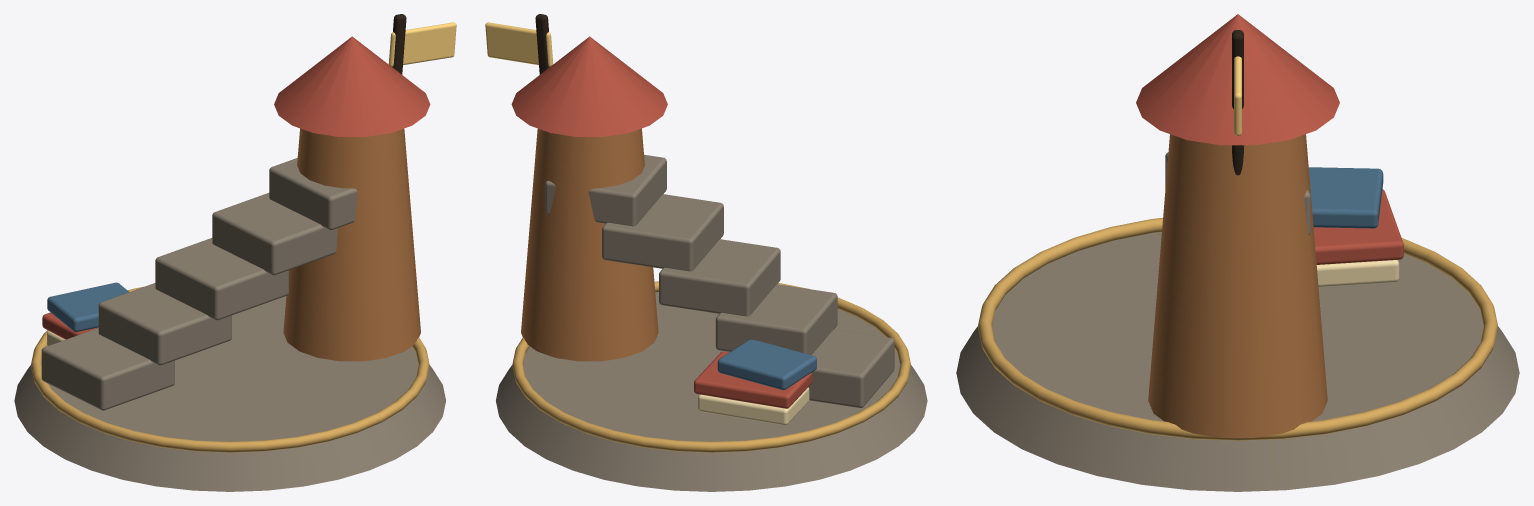
Rendered from stair-tower-growth.glb.
3 views of the same model, side by side, from view 1: azimuth 30°, elevation 25°; view 2: azimuth 150°, elevation 25°; view 3: azimuth 270°, elevation 25° (orthographic). The views are drawn at different scales.
Parts seen in each view (by area): view 1: asset-plinth, growth-step (×5), tower-body, tower-roof, plinth-rim, book-cover-small, flag, flagpole, book-cover; view 2: asset-plinth, growth-step (×5), tower-body, tower-roof, plinth-rim, book-cover-small, book-cover, flag, book-pages, flagpole; view 3: asset-plinth, tower-body, tower-roof, plinth-rim, book-cover-small, book-cover, book-pages, flagpole, flag.
Part boxes in pixels (bbox=[...]): asset-plinth: bbox=[14, 296, 445, 491]; growth-step (×5): bbox=[41, 158, 357, 410]; tower-body: bbox=[283, 128, 420, 361]; tower-roof: bbox=[274, 36, 430, 136]; plinth-rim: bbox=[31, 286, 429, 452]; book-cover-small: bbox=[47, 282, 128, 331]; flag: bbox=[388, 22, 456, 66]; flagpole: bbox=[392, 14, 406, 74]; book-cover: bbox=[42, 312, 98, 339]; asset-plinth: bbox=[496, 292, 927, 491]; growth-step (×5): bbox=[545, 154, 894, 407]; tower-body: bbox=[521, 128, 658, 361]; tower-roof: bbox=[511, 36, 667, 136]; plinth-rim: bbox=[512, 281, 910, 452]; book-cover-small: bbox=[717, 339, 816, 390]; book-cover: bbox=[694, 351, 812, 408]; flag: bbox=[485, 22, 553, 66]; book-pages: bbox=[698, 387, 809, 425]; flagpole: bbox=[535, 14, 549, 74]; asset-plinth: bbox=[956, 232, 1519, 491]; tower-body: bbox=[1148, 134, 1327, 437]; tower-roof: bbox=[1136, 14, 1339, 145]; plinth-rim: bbox=[977, 217, 1498, 440]; book-cover-small: bbox=[1308, 167, 1383, 228]; book-cover: bbox=[1313, 189, 1403, 264]; book-pages: bbox=[1316, 260, 1399, 286]; flagpole: bbox=[1232, 30, 1243, 175]; flag: bbox=[1234, 56, 1241, 135].
Size of the model in its own units: 3.05 by 2.43 by 2.76.
